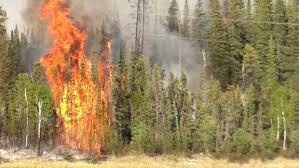fire: (34, 0, 115, 158)
